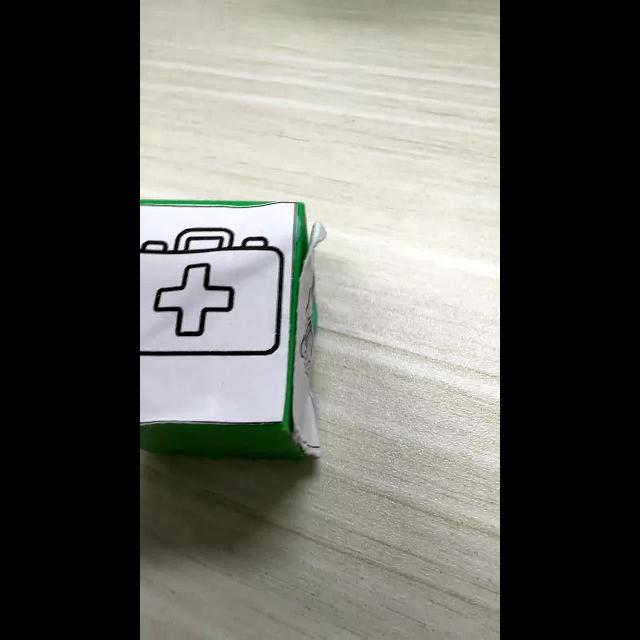Medkit: (140, 226, 285, 356)
